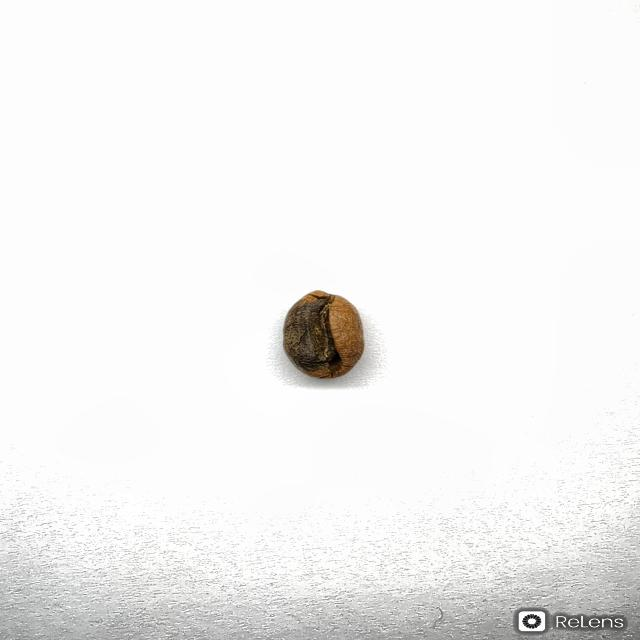Scorched: (283, 290, 364, 379)
